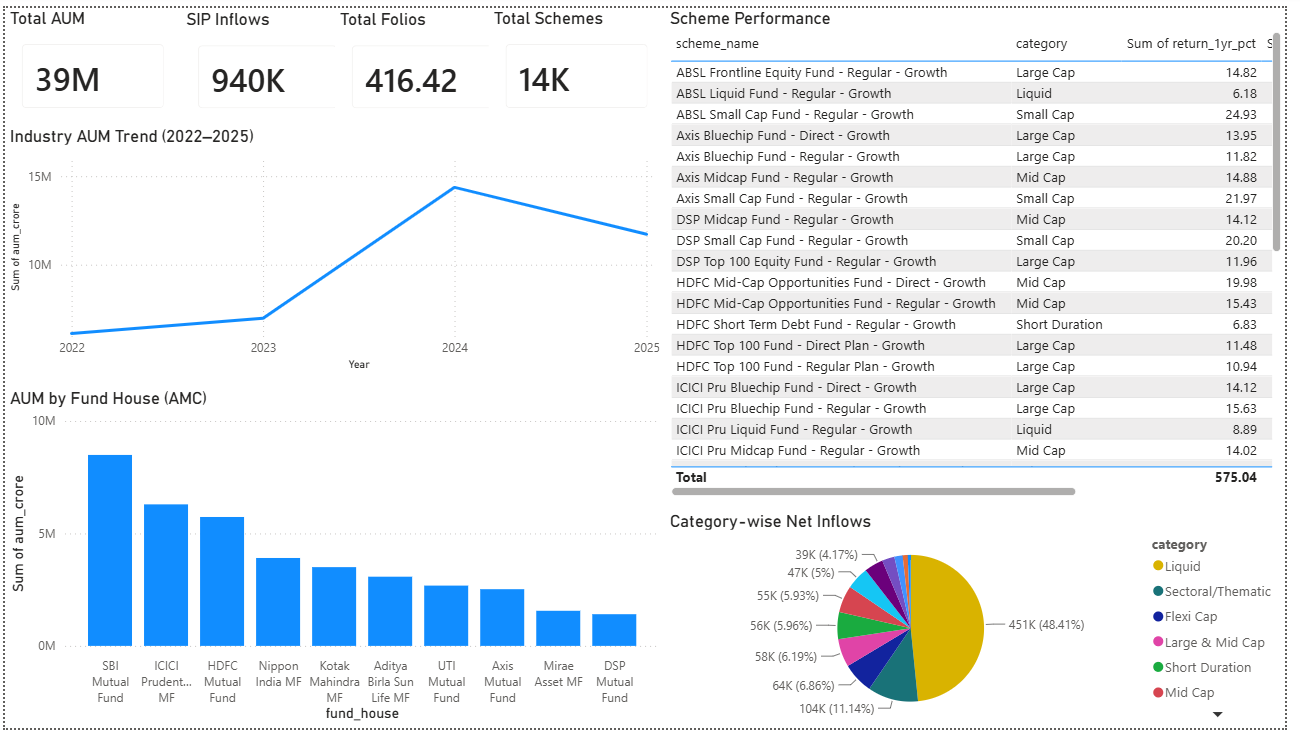

What the dashboard file says about the page in this screenshot:
{"tool":"powerbi","page":{"name":"Industry overview","canvas":[1280,720],"ordinal":0},"visuals":[{"type":"cardVisual","title":"Total AUM","fields":{"Data":["Sum(03_aum_by_fund_house_cleaned.aum_crore)"]},"box":[0,0,176.4,118.1],"z":0},{"type":"cardVisual","title":"SIP Inflows","fields":{"Data":["Sum(04_monthly_sip_inflows_cleaned.sip_inflow_crore)"]},"box":[176.4,1.4,173.6,116.7],"z":1000},{"type":"cardVisual","title":"Total Folios","fields":{"Data":["Sum(06_industry_folio_count_cleaned.total_folios_crore)"]},"box":[330.6,1.4,175,116.7],"z":2000},{"type":"cardVisual","title":"Total Schemes","fields":{"Data":["Sum(03_aum_by_fund_house_cleaned.num_schemes)"]},"box":[483.3,0,176.4,118.1],"z":3000},{"type":"clusteredColumnChart","title":"AUM by Fund House (AMC)","fields":{"Category":["03_aum_by_fund_house_cleaned.fund_house"],"Y":["Sum(03_aum_by_fund_house_cleaned.aum_crore)"]},"box":[0,380.6,659.7,338.9],"z":4000},{"type":"pieChart","title":"Category-wise Net Inflows","fields":{"Category":["05_category_inflows_cleaned.category"],"Y":["Sum(05_category_inflows_cleaned.net_inflow_crore)"]},"box":[659.7,502.8,620.8,216.7],"z":5000},{"type":"tableEx","title":"Scheme Performance","fields":{"Values":["07_scheme_performance_cleaned.scheme_name","07_scheme_performance_cleaned.category","Sum(07_scheme_performance_cleaned.return_1yr_pct)","Sum(07_scheme_performance_cleaned.return_3yr_pct)","Sum(07_scheme_performance_cleaned.expense_ratio_pct)"]},"box":[659.7,0,620.8,493.1],"z":6000},{"type":"lineChart","title":"Industry AUM Trend (2022–2025)","fields":{"Category":["03_aum_by_fund_house_cleaned.date.Variation.Date Hierarchy.Year"],"Y":["Sum(03_aum_by_fund_house_cleaned.aum_crore)"]},"box":[0,118.1,659.7,250],"z":7000}]}

Visuals, with their boxes in screenshot pixels (x1, y1, x2, y2), scaled from the page's 1280x720 canvas onto the 1300x737 screenshot:
"Total AUM" cardVisual: box=[0, 0, 179, 121]
"SIP Inflows" cardVisual: box=[179, 1, 355, 121]
"Total Folios" cardVisual: box=[336, 1, 514, 121]
"Total Schemes" cardVisual: box=[491, 0, 670, 121]
"AUM by Fund House (AMC)" clusteredColumnChart: box=[0, 390, 670, 736]
"Category-wise Net Inflows" pieChart: box=[670, 515, 1299, 736]
"Scheme Performance" tableEx: box=[670, 0, 1299, 505]
"Industry AUM Trend (2022–2025)" lineChart: box=[0, 121, 670, 377]
